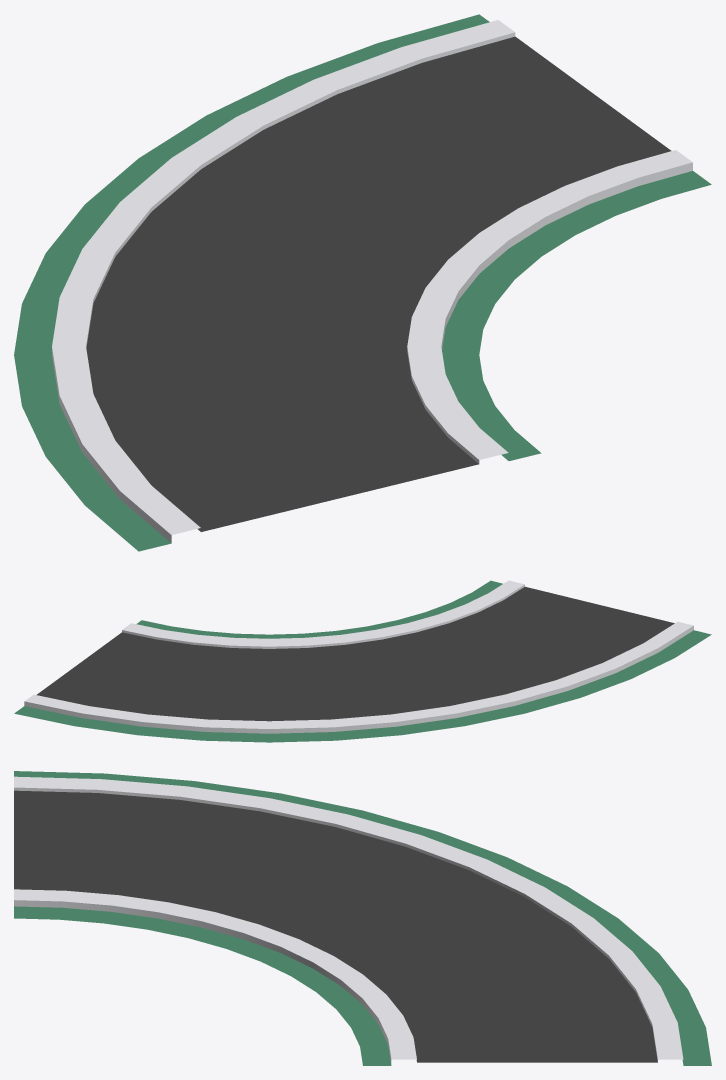
Rendered from roadCornerLarge.glb.
3 renders of one model, top to bottom at view 1: azimuth 30°, elevation 25°; view 2: azimuth 150°, elevation 25°; view 3: azimuth 270°, elevation 25°, orthographic. The views are drawn at different scales.
Visible parts, largest first — view 1: roadCornerLarge; view 2: roadCornerLarge; view 3: roadCornerLarge.
Part boxes in pixels (x1,y1,x2,y2): roadCornerLarge: (14, 14, 711, 551); roadCornerLarge: (14, 580, 711, 742); roadCornerLarge: (14, 771, 711, 1065).
Bounding box in the file's own units: 2 × 0.02 × 2.
